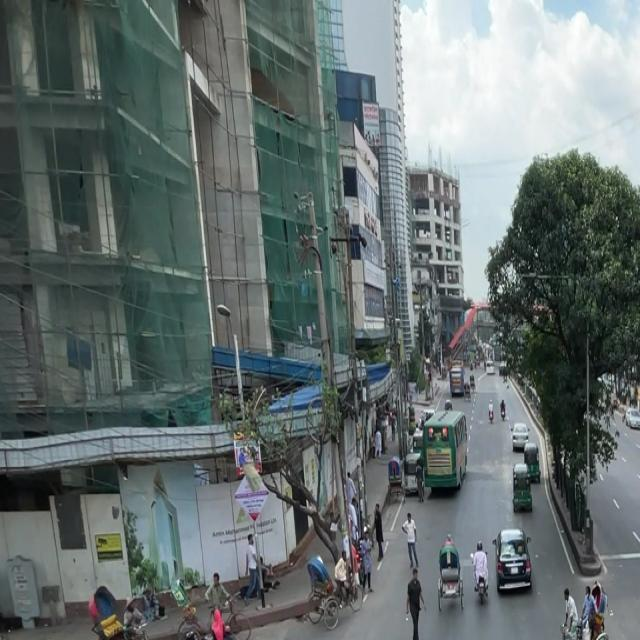bus: (423, 404, 472, 497)
car: (490, 518, 538, 598)
motorbike: (204, 572, 240, 640), (173, 620, 254, 640)
rickshaw: (508, 459, 538, 516)
